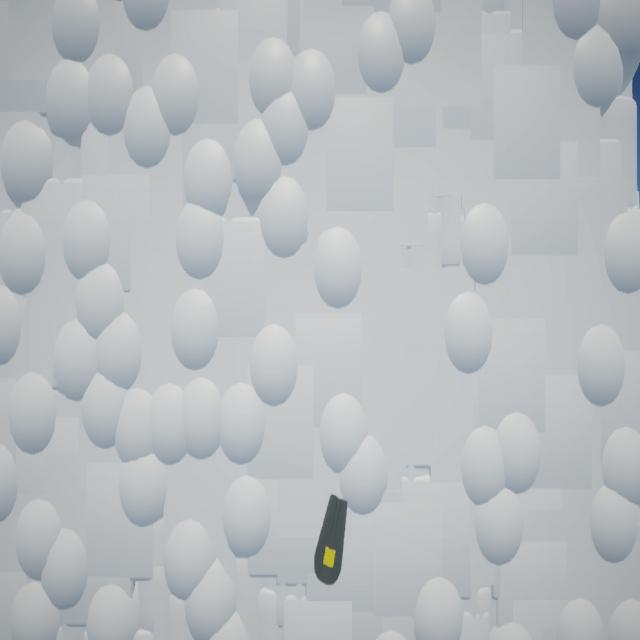handle_folk: (315, 495, 349, 587)
